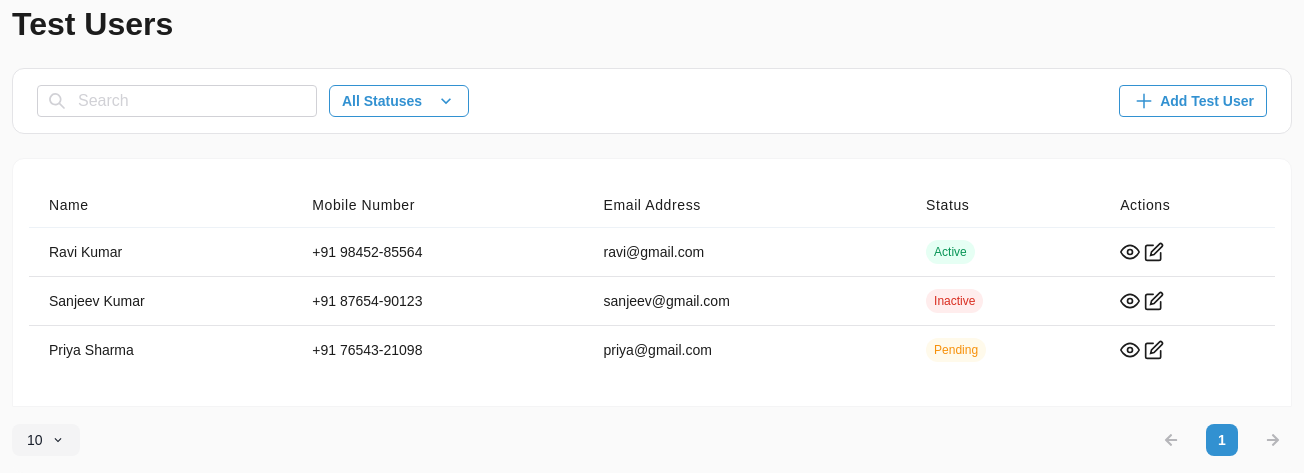
Test: UserAdminListPage › shows empty message when no results match
Step 1. Type "zzznomatch" into the field named "search users" → (177, 101), box [37,85,317,117]
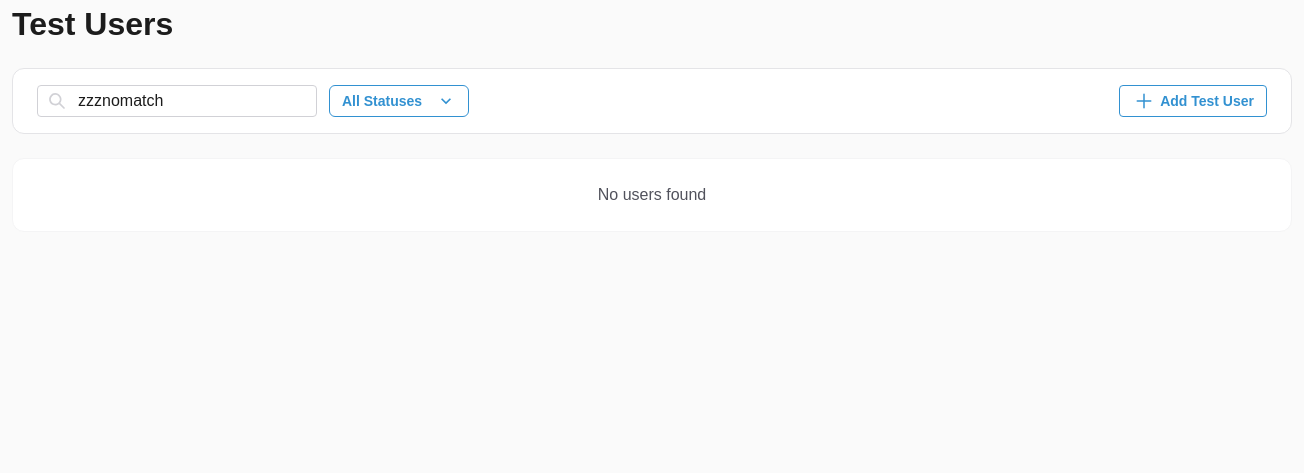
Result: the text "No users found" is shown at [598,186,706,203]
